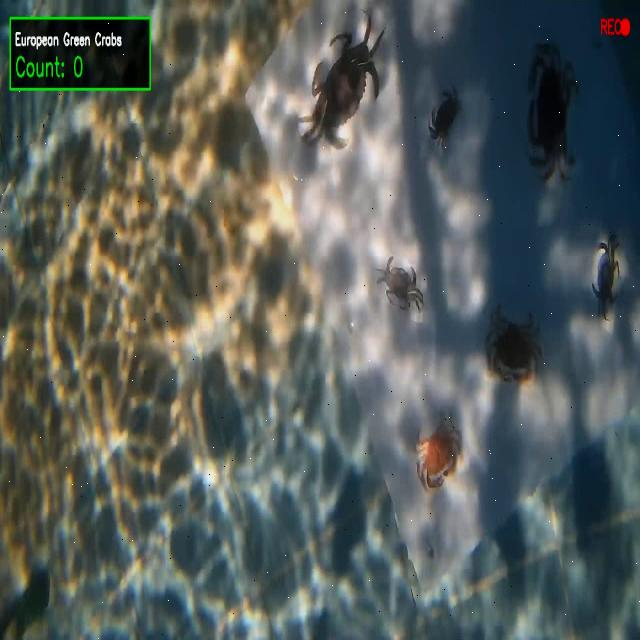European_Green_Crab: (287, 0, 398, 177), (372, 249, 429, 322), (592, 229, 629, 334)
